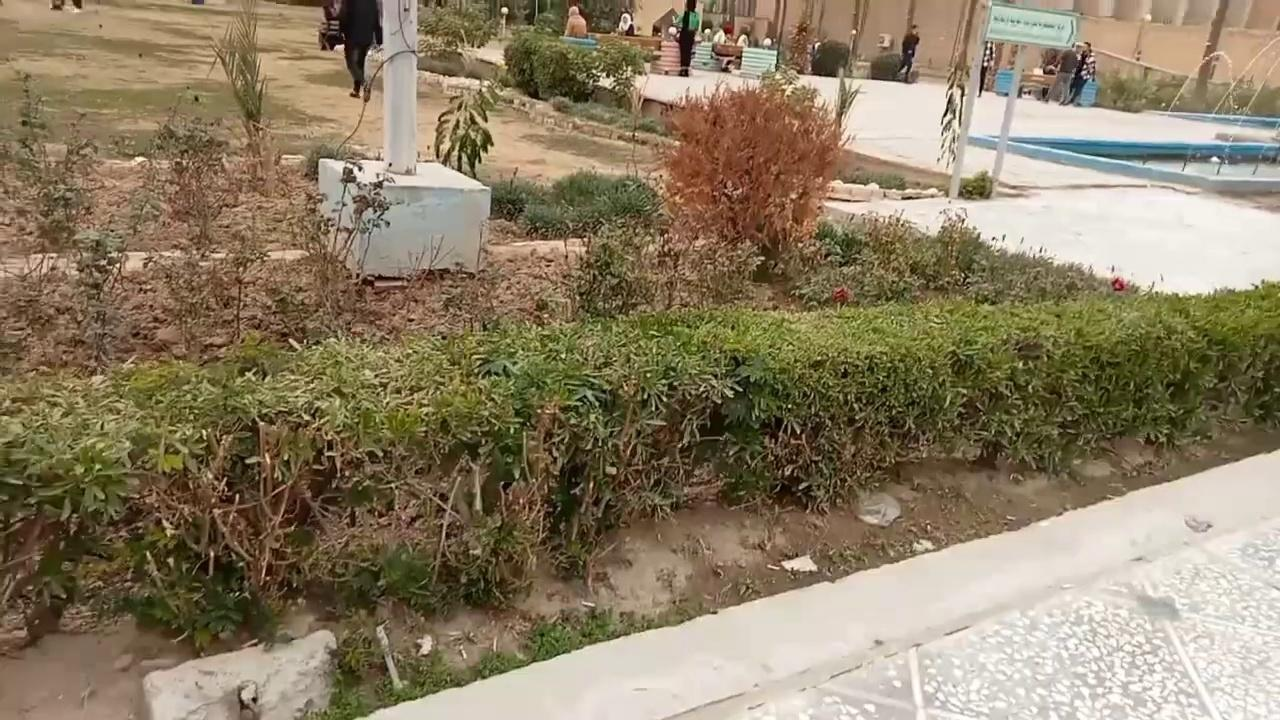fountain: (965, 128, 1278, 193)
person: (337, 0, 382, 100), (672, 0, 700, 76), (1062, 41, 1094, 106), (895, 24, 919, 83), (563, 5, 587, 38), (617, 6, 633, 35)
tree: (653, 63, 858, 268), (205, 0, 282, 189), (501, 27, 650, 108), (937, 0, 988, 197), (432, 78, 502, 178), (416, 1, 497, 51), (1192, 0, 1231, 101), (1095, 64, 1161, 112), (840, 0, 870, 77), (786, 19, 814, 73)
